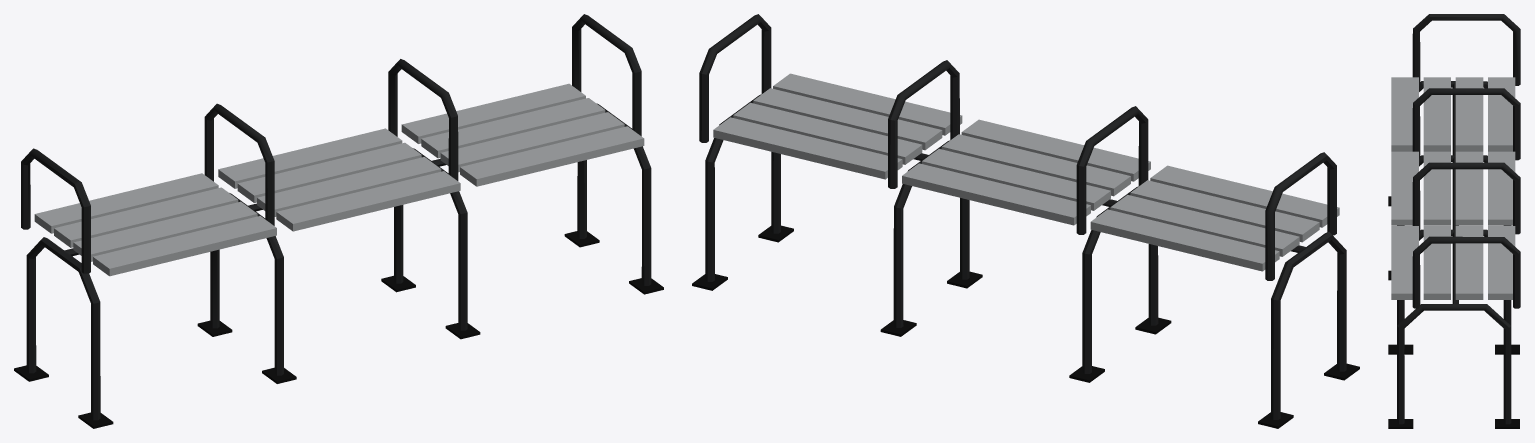
The model's file is gteki_bench_3seat_slat.glb.
3 views of the same model, side by side, from view 1: azimuth 30°, elevation 25°; view 2: azimuth 150°, elevation 25°; view 3: azimuth 270°, elevation 25° (orthographic). The views are drawn at different scales.
Visible parts, largest first — view 1: VIS_body; view 2: VIS_body; view 3: VIS_body.
Part boxes in pixels (x1,y1,x2,y2): VIS_body: [14, 14, 663, 428]; VIS_body: [692, 14, 1359, 428]; VIS_body: [1388, 14, 1520, 428].
Size of what is drawn, in the model's own units: 1.74 by 0.6618 by 0.4223.
Materials: 1 (1 with a texture image).
